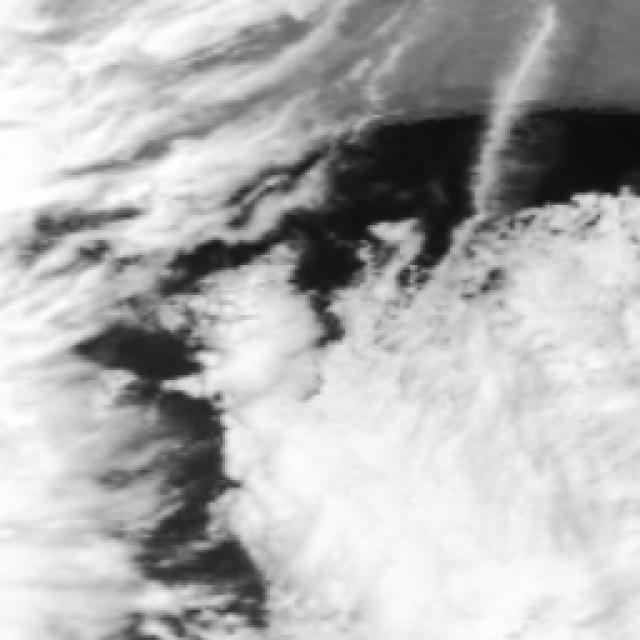CB: (240, 356, 430, 546), (338, 490, 570, 640), (498, 425, 640, 640), (356, 337, 549, 494), (501, 248, 640, 419)
